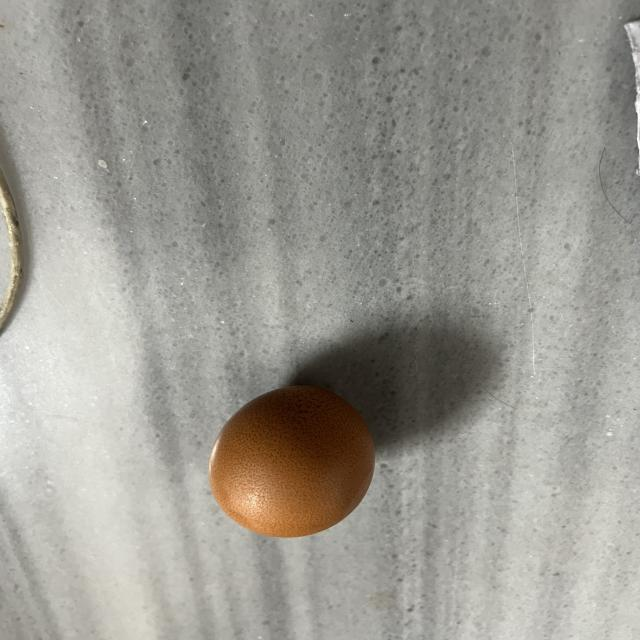Egg: (204, 383, 379, 545)
